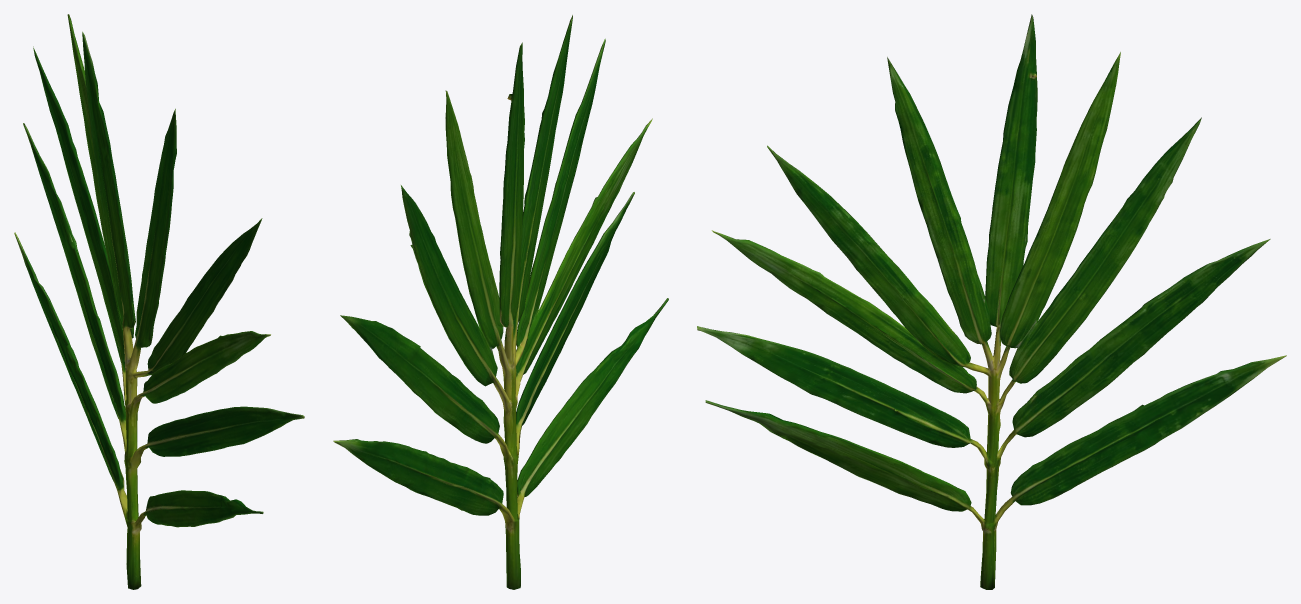
File: sasa-leaf.glb
3 views of the same model, side by side, from view 1: azimuth 30°, elevation 25°; view 2: azimuth 150°, elevation 25°; view 3: azimuth 270°, elevation 25° (orthographic). The views are drawn at different scales.
Visible parts, largest first — view 1: tripo_node_88707740-2944-41f8-9ffa-7227667d9060; view 2: tripo_node_88707740-2944-41f8-9ffa-7227667d9060; view 3: tripo_node_88707740-2944-41f8-9ffa-7227667d9060.
Part boxes in pixels (x1,y1,x2,y2): tripo_node_88707740-2944-41f8-9ffa-7227667d9060: (14, 14, 304, 589); tripo_node_88707740-2944-41f8-9ffa-7227667d9060: (333, 15, 668, 589); tripo_node_88707740-2944-41f8-9ffa-7227667d9060: (697, 14, 1286, 589).
Size of the model in its own units: 0.1129 by 1 by 0.9569.
Materials: 1 (1 with a texture image).
